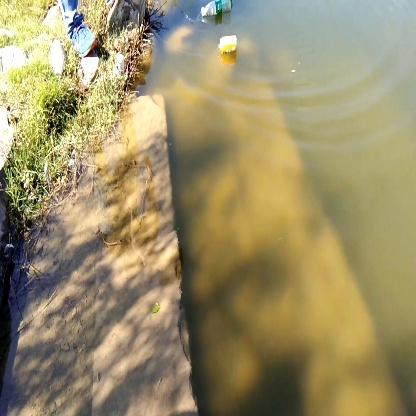bottle: (215, 33, 244, 56)
